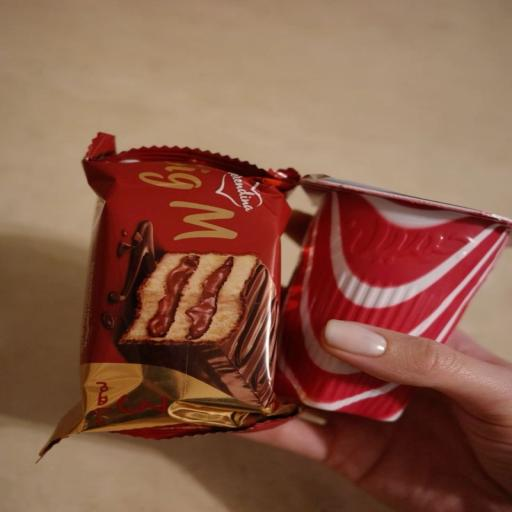merendina: (56, 130, 346, 459)
